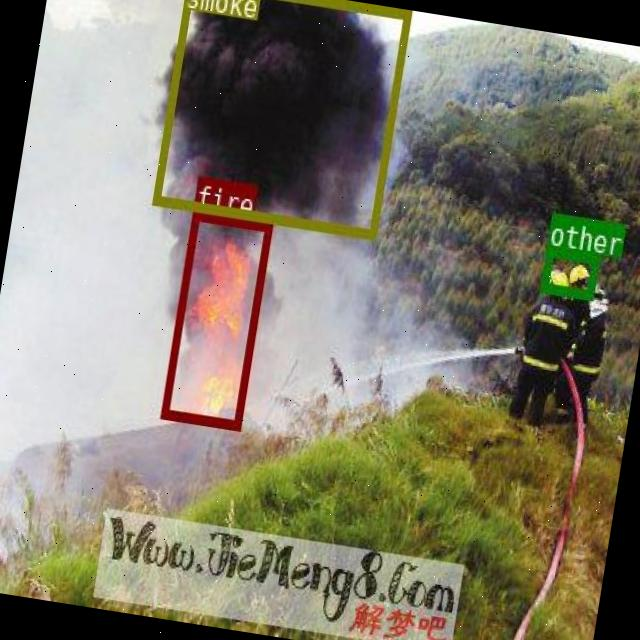fire: (159, 208, 272, 430)
smoke: (151, 0, 410, 237)
